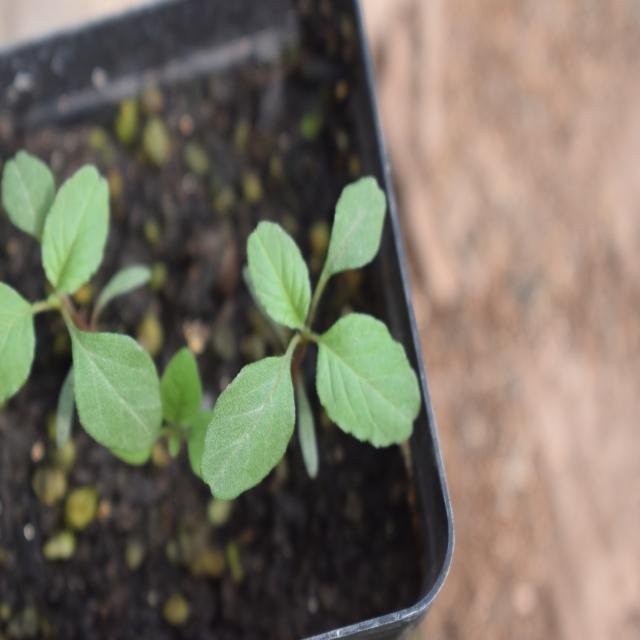pigweed: (203, 170, 421, 498)
